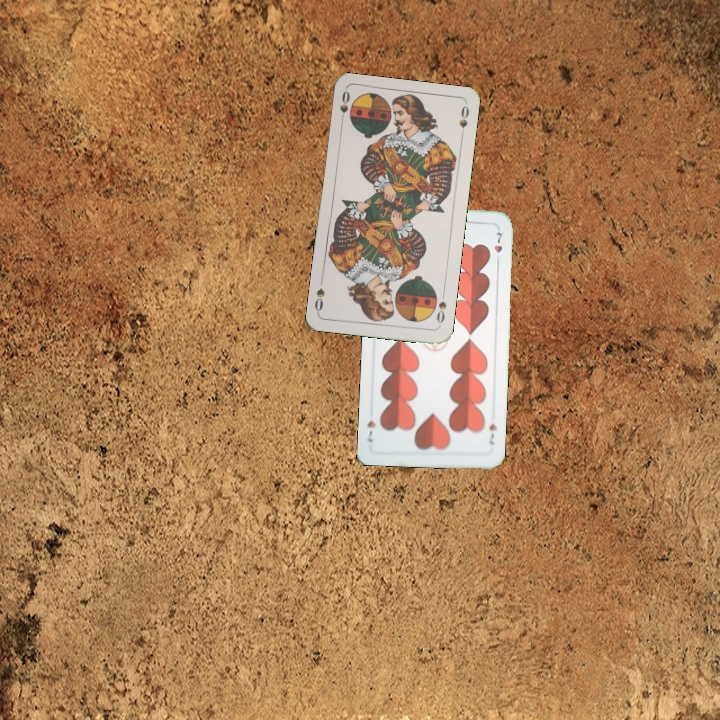H7: (485, 420, 499, 447)
SO: (336, 87, 352, 128), (433, 288, 449, 326)
